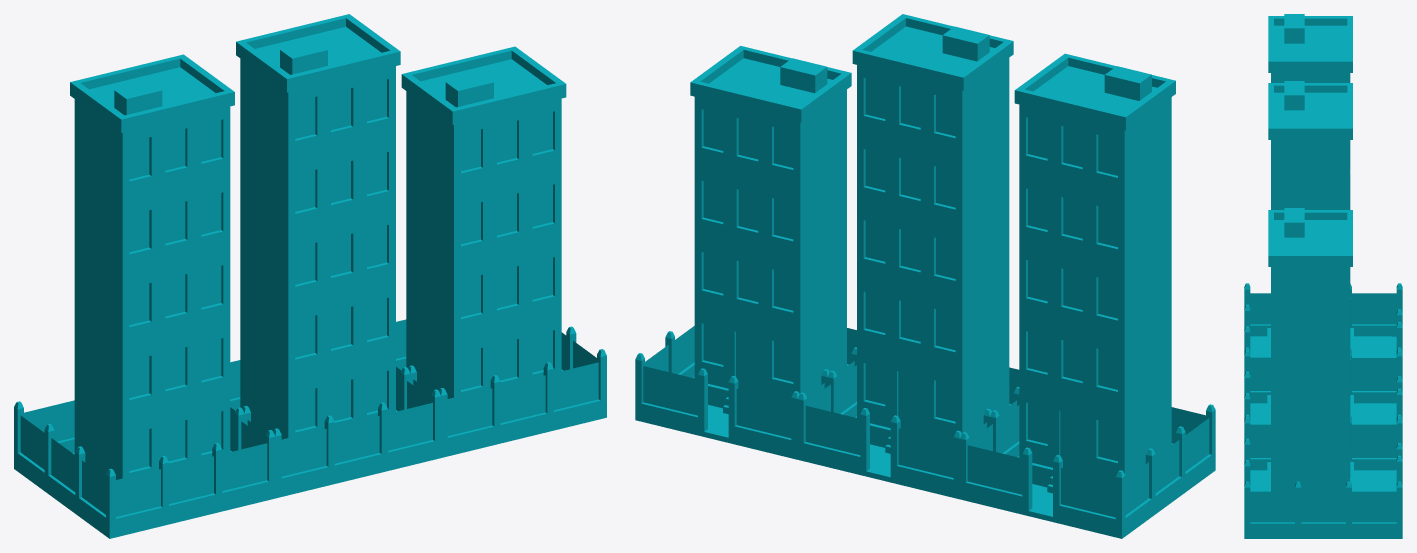
Rendered from student11.FBX.
3 renders of one model, left to right at view 1: azimuth 30°, elevation 25°; view 2: azimuth 150°, elevation 25°; view 3: azimuth 270°, elevation 25°, orthographic. The views are drawn at different scales.
Visible parts, largest first — view 1: 学生公寓11; view 2: 学生公寓11; view 3: 学生公寓11.
Boxes of the visible parts, x1,y1,x2,y2 form: 学生公寓11: (14,14,606,538); 学生公寓11: (635,14,1215,538); 学生公寓11: (1244,14,1402,538).
Size of the model in its own units: 18 by 14.26 by 6.
